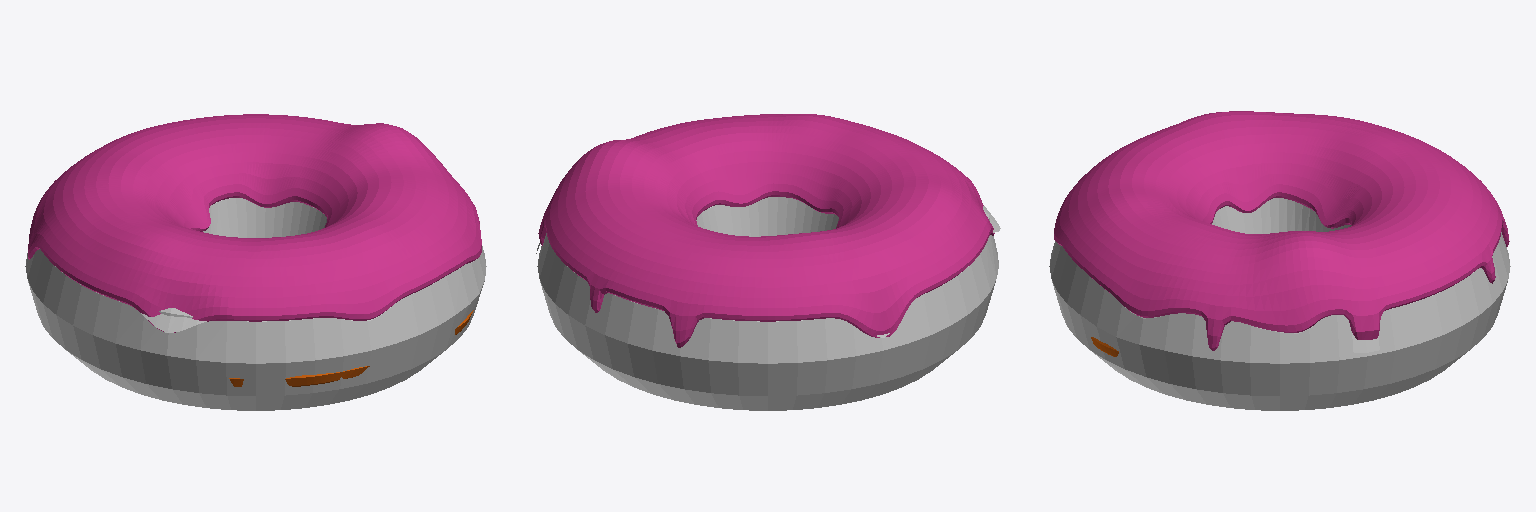
File: Donut_Cooked(V1).obj
The picture shows the model from 3 angles: view 1: azimuth 30°, elevation 25°; view 2: azimuth 150°, elevation 25°; view 3: azimuth 270°, elevation 25°; orthographic projection.
Parts seen in each view (by area): view 1: Icing_Torus.002, Donut_original_Torus.003, Donut_Torus, Icing_original_Torus.004; view 2: Icing_Torus.002, Donut_original_Torus.003; view 3: Icing_Torus.002, Donut_original_Torus.003.
Part boxes in pixels (x1,y1,x2,y2): Icing_Torus.002: (28, 114, 481, 332); Donut_original_Torus.003: (25, 198, 486, 410); Donut_Torus: (229, 310, 473, 386); Icing_original_Torus.004: (27, 254, 476, 332); Icing_Torus.002: (538, 114, 994, 347); Donut_original_Torus.003: (537, 197, 998, 410); Icing_Torus.002: (1054, 111, 1509, 350); Donut_original_Torus.003: (1049, 198, 1510, 410).
Size of the model in its own units: 1.4 by 0.5692 by 1.4.